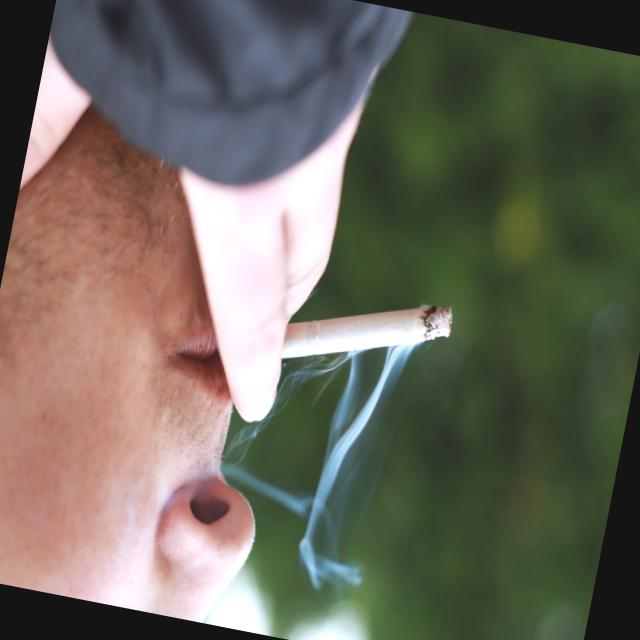smoke: (300, 276, 471, 392)
